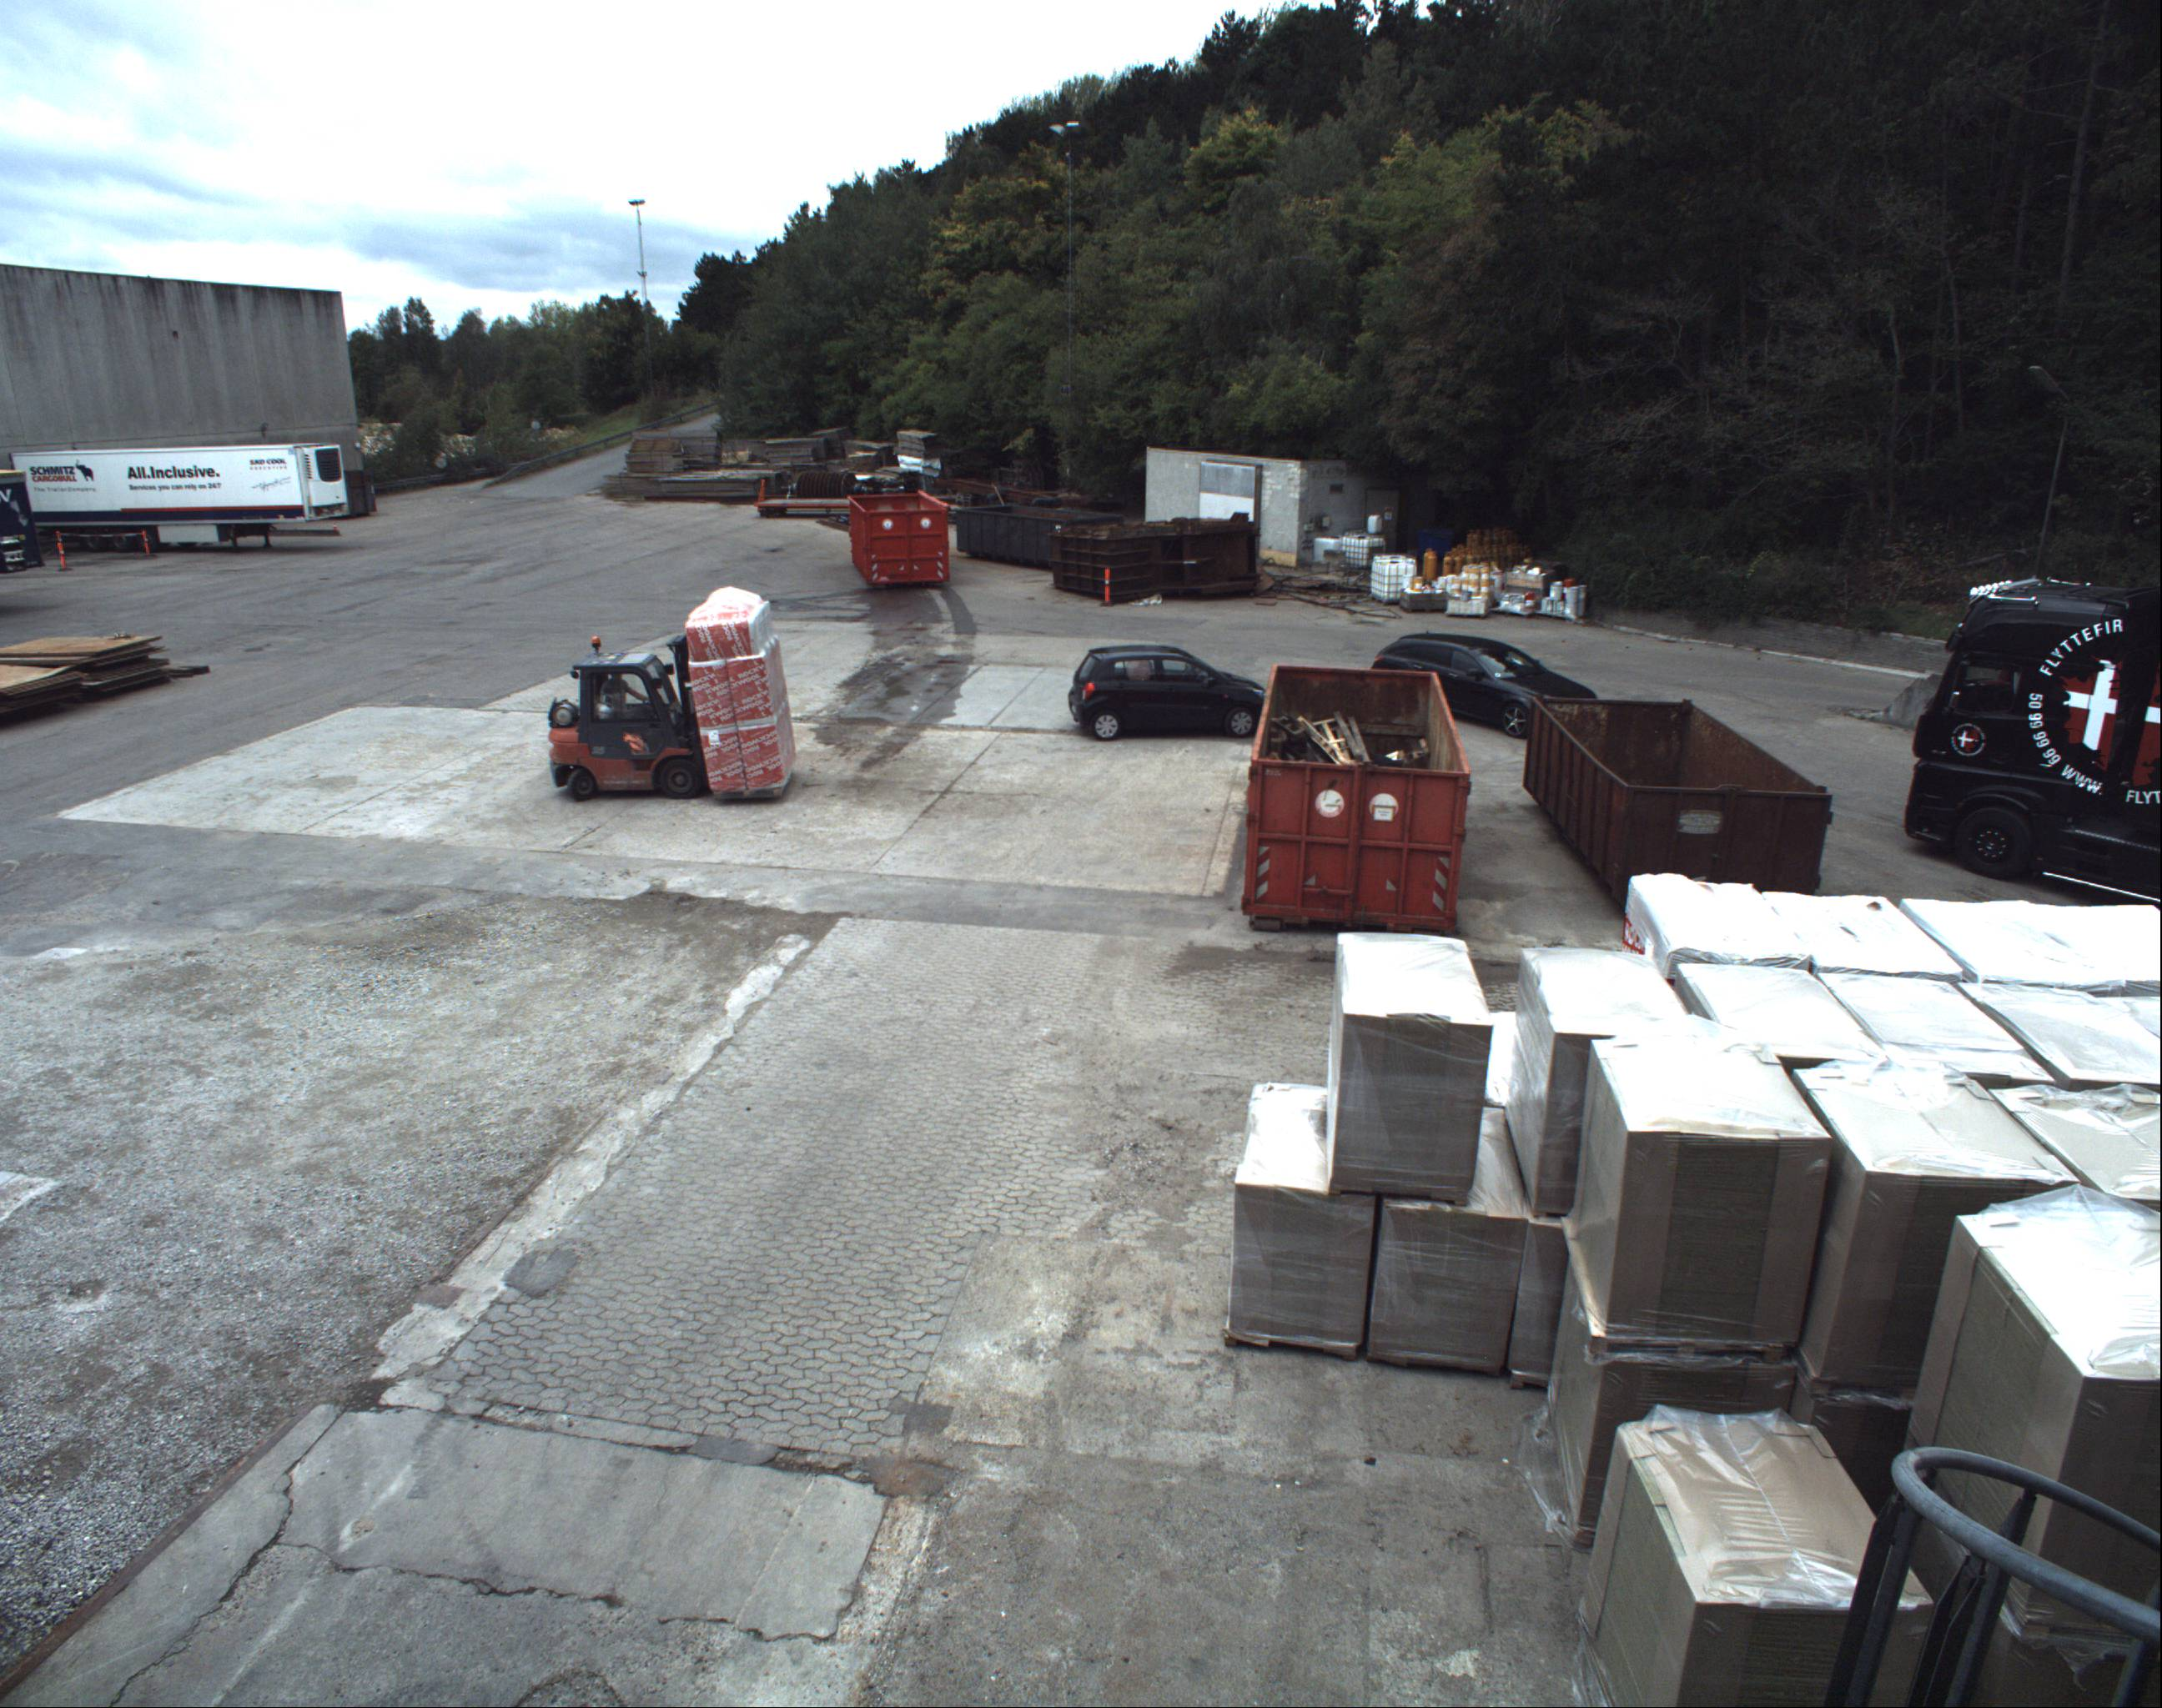rockwool_batts: (677, 583, 800, 793)
